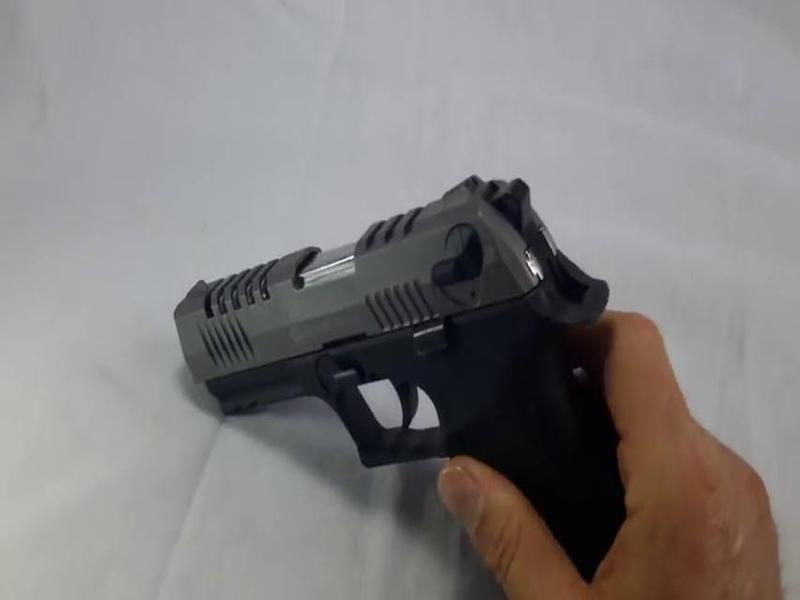Pistola: (146, 142, 642, 564)
